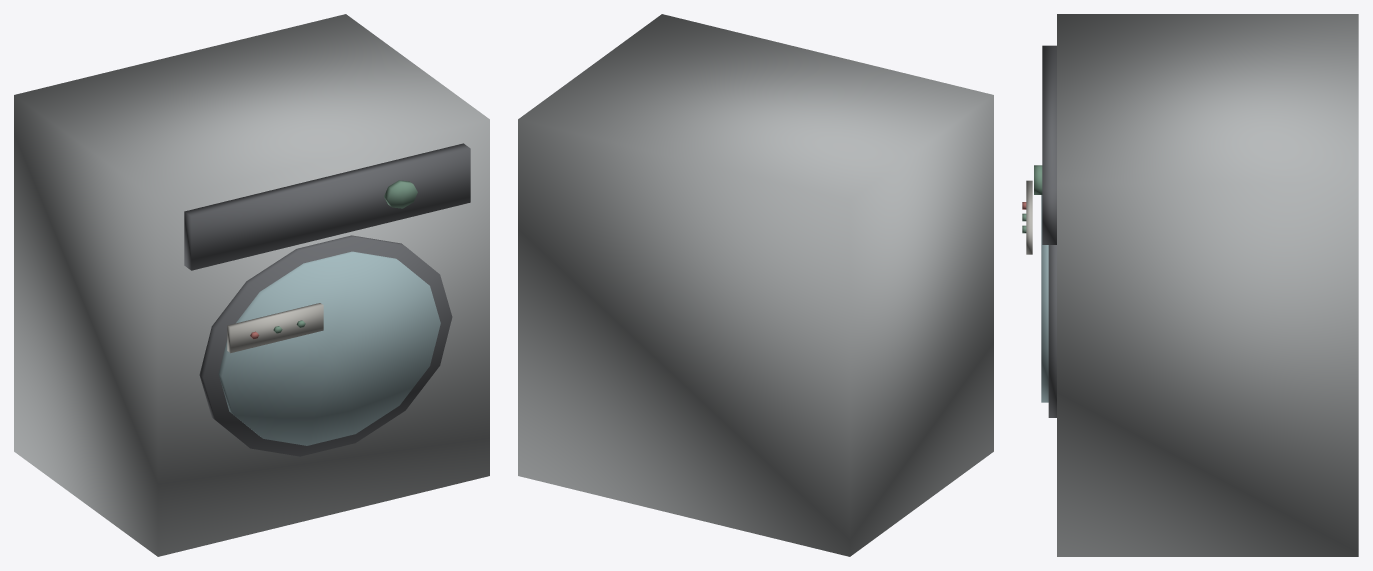
File: industrial_washer__wide.glb
3 views of the same model, side by side, from view 1: azimuth 30°, elevation 25°; view 2: azimuth 150°, elevation 25°; view 3: azimuth 270°, elevation 25° (orthographic). The views are drawn at different scales.
Visible parts, largest first — view 1: world; view 2: world; view 3: world.
Part boxes in pixels (left/top/right/bottom): world: left=14, top=14, right=489, bottom=556; world: left=518, top=14, right=993, bottom=556; world: left=1022, top=14, right=1358, bottom=556.
Size of the model in its own units: 1.09 by 1.12 by 0.9135.
